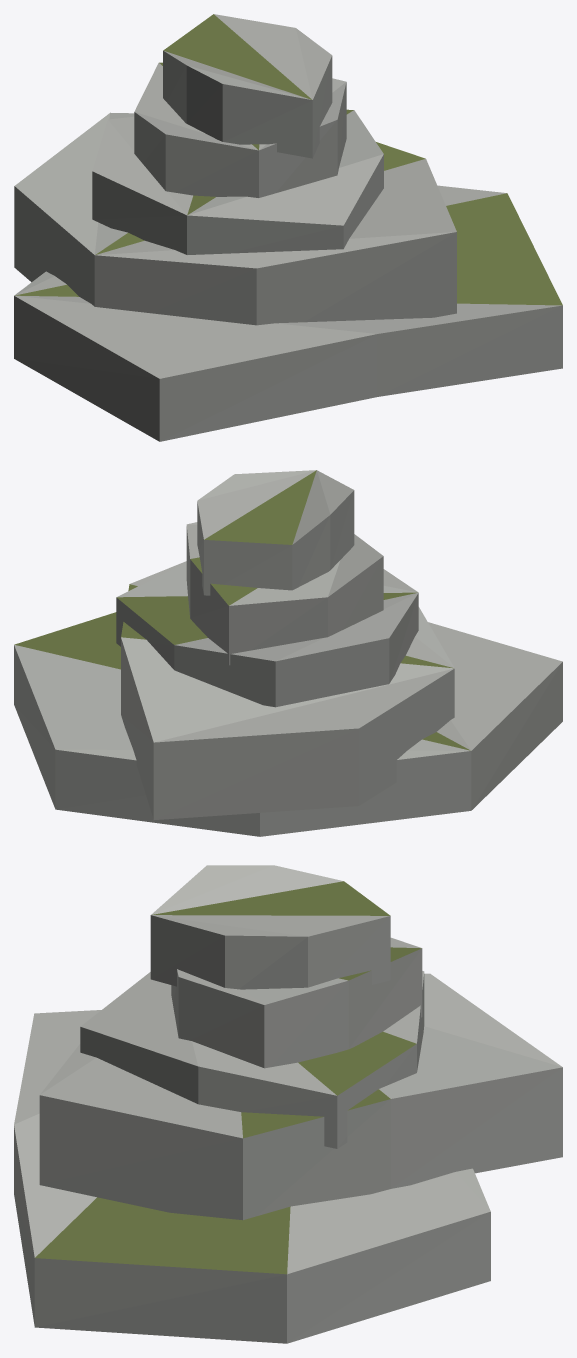
Rendered from rock.boulder__outcrop__summer.glb.
3 views of the same model, one above another, from view 1: azimuth 30°, elevation 25°; view 2: azimuth 150°, elevation 25°; view 3: azimuth 270°, elevation 25° (orthographic). The views are drawn at different scales.
Visible parts, largest first — view 1: rock.boulder; view 2: rock.boulder; view 3: rock.boulder.
Boxes of the visible parts, left/top/right/bottom form: rock.boulder: left=14, top=14, right=562, bottom=441; rock.boulder: left=14, top=470, right=562, bottom=836; rock.boulder: left=14, top=865, right=562, bottom=1343.
Bounding box in the file's own units: 2.33 × 1.33 × 2.06.
